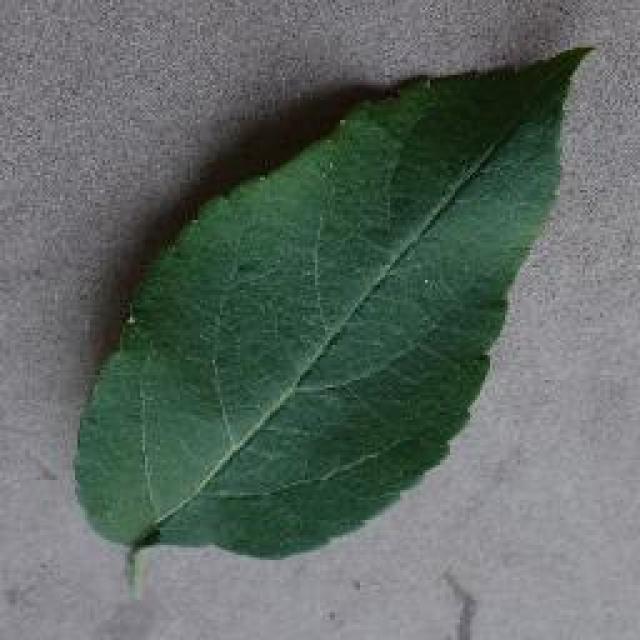apple healthy: (70, 40, 595, 598)
